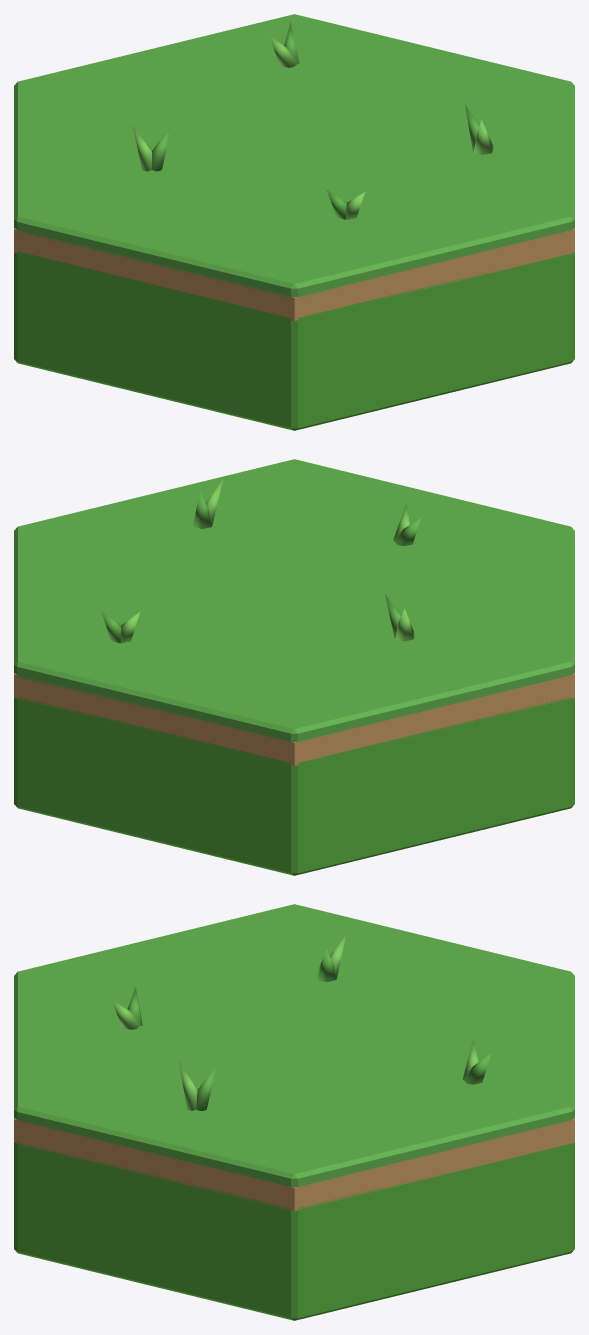
Rendered from grama-hex.glb.
3 renders of one model, top to bottom at view 1: azimuth 30°, elevation 25°; view 2: azimuth 150°, elevation 25°; view 3: azimuth 270°, elevation 25°, orthographic.
Visible parts, largest first — view 1: GramaHex; view 2: GramaHex; view 3: GramaHex.
Part boxes in pixels (x1,y1,x2,y2): GramaHex: [14, 14, 574, 430]; GramaHex: [14, 459, 574, 875]; GramaHex: [14, 904, 574, 1320].
Size of the model in its own units: 2 by 0.64 by 1.73.
